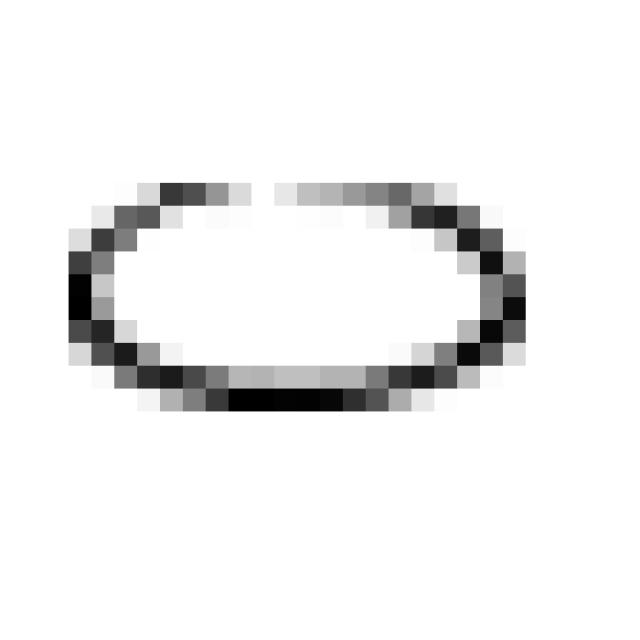5 -five-: (52, 155, 546, 429)
